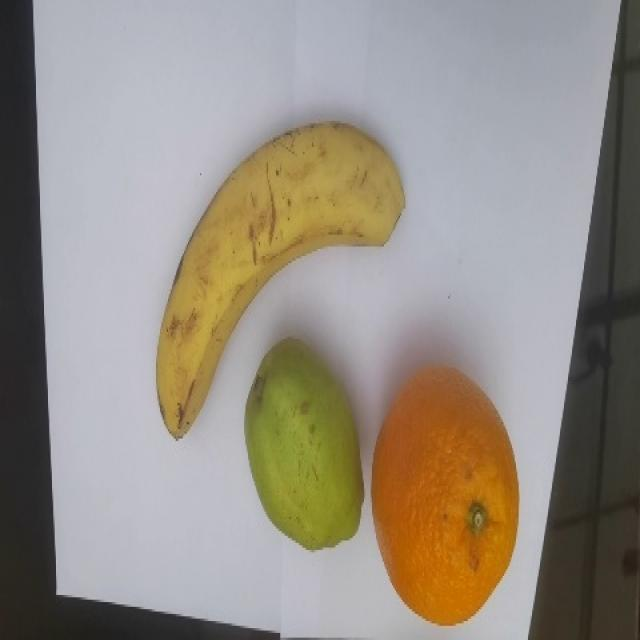Banana: (154, 123, 412, 443)
Orange: (371, 370, 523, 629)
